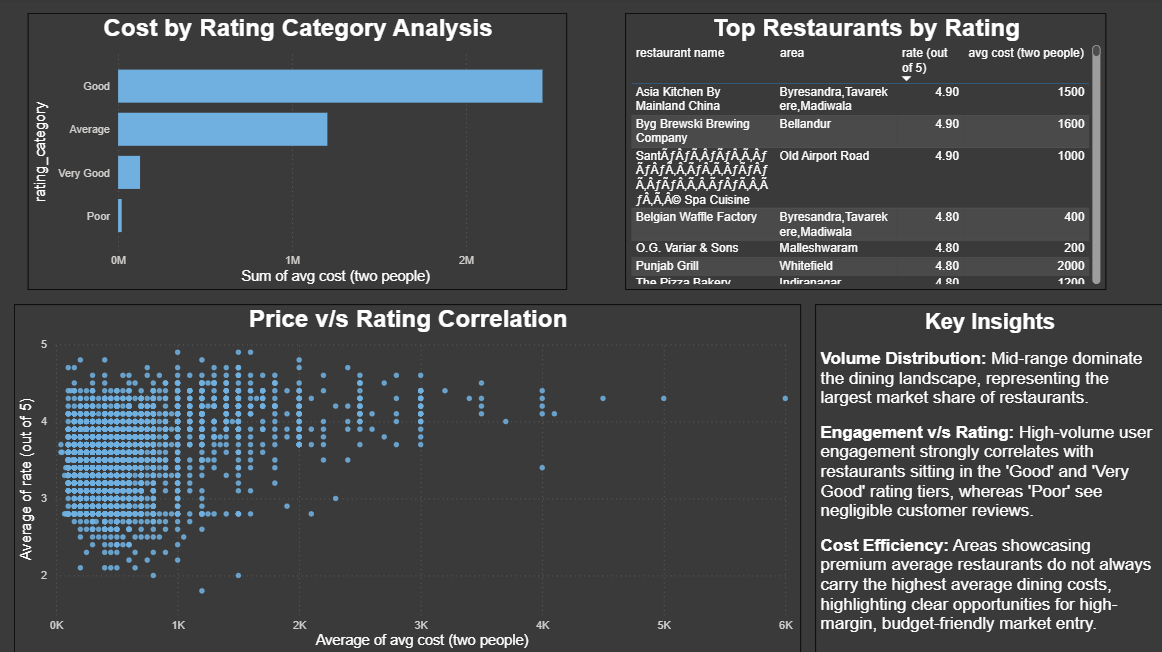

The page's visual inventory and layout, read from the dashboard file:
{"tool":"powerbi","page":{"name":"Cost & Performance Analysis","canvas":[1280,720],"ordinal":1},"visuals":[{"type":"tableEx","title":"Top Restaurants by Rating","fields":{"Values":["cleaned_dataset.restaurant name","cleaned_dataset.area","cleaned_dataset.rate (out of 5)","cleaned_dataset.avg cost (two people)"]},"box":[688,16,528,304],"z":0},{"type":"scatterChart","title":"Price v/s Rating Correlation","fields":{"Category":["cleaned_dataset.restaurant name"],"X":["Avg(cleaned_dataset.avg cost (two people))"],"Y":["Avg(cleaned_dataset.rate (out of 5))"]},"box":[16,336,864,384],"z":1000},{"type":"clusteredBarChart","title":"Cost by Rating Category Analysis","fields":{"Category":["cleaned_dataset.rating_category"],"Y":["Sum(cleaned_dataset.avg cost (two people))"]},"box":[32,16,592,304],"z":1001},{"type":"textbox","box":[896,336,384,384],"z":1002}]}

Visuals, with their boxes in screenshot pixels (x1, y1, x2, y2), scaled from the page's 1280x720 canvas onto the 1162x652 screenshot:
"Top Restaurants by Rating" tableEx: detection(625, 14, 1104, 290)
"Price v/s Rating Correlation" scatterChart: detection(15, 304, 799, 651)
"Cost by Rating Category Analysis" clusteredBarChart: detection(29, 14, 566, 290)
textbox: detection(813, 304, 1161, 651)
